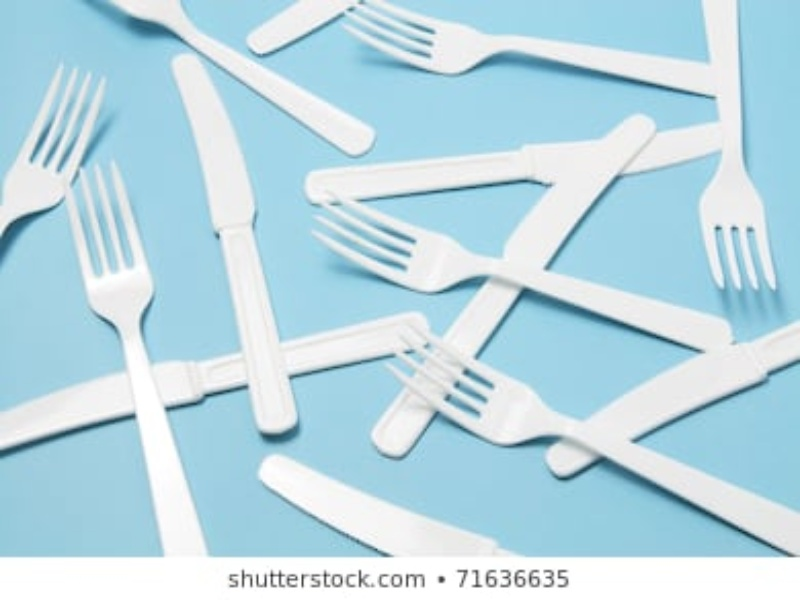plastic-silverware: (373, 110, 658, 463), (384, 318, 800, 555), (312, 190, 741, 353), (52, 160, 227, 556), (1, 303, 433, 455), (164, 48, 317, 435), (108, 1, 379, 161), (544, 323, 800, 483), (342, 1, 720, 100), (304, 120, 728, 205), (252, 449, 532, 558), (695, 1, 781, 291), (1, 63, 114, 234), (245, 1, 342, 59)
